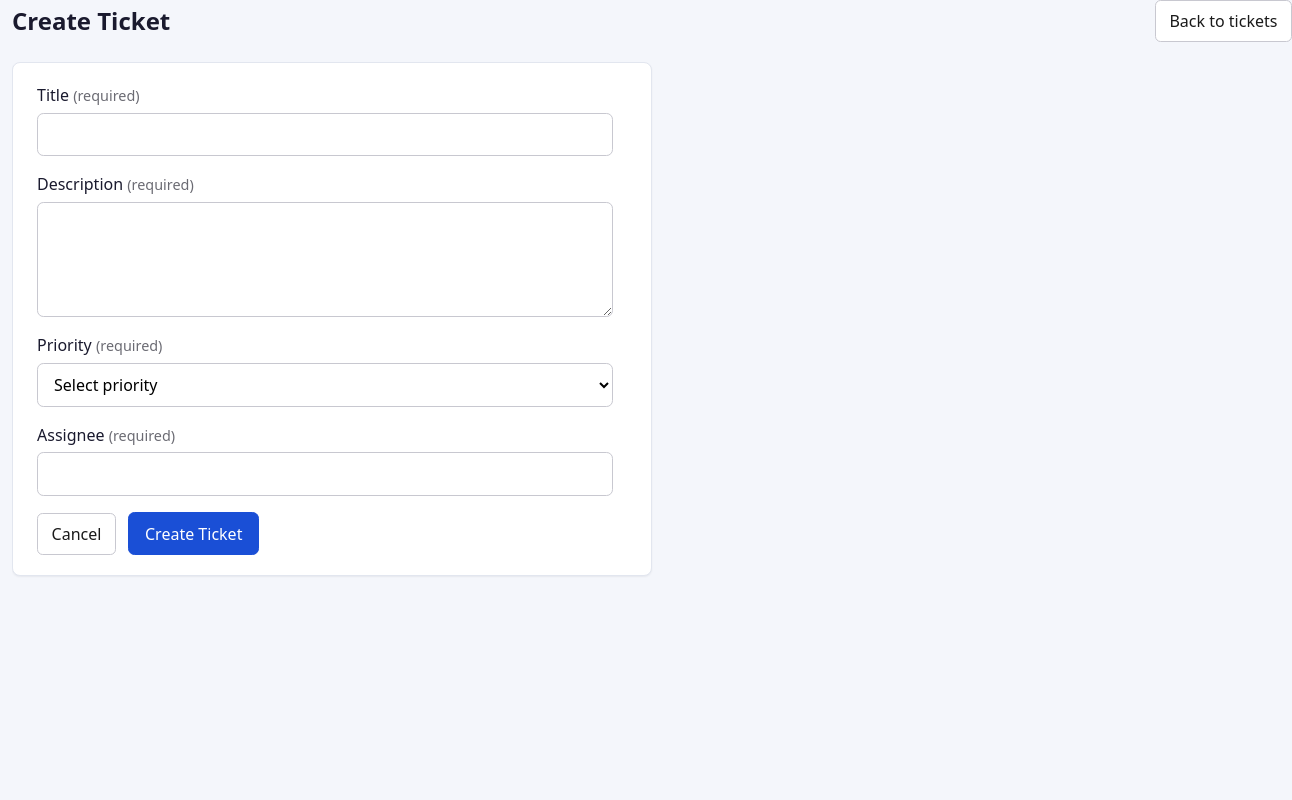
Test: CreateTicketPage › displays backend field validation errors for HTTP 400
The image size is (1292, 800).
Type "Unable to login" into the field labelled "Title (required)". click: coordinates (325, 134)
box: top-left (37, 113), bottom-right (613, 156)
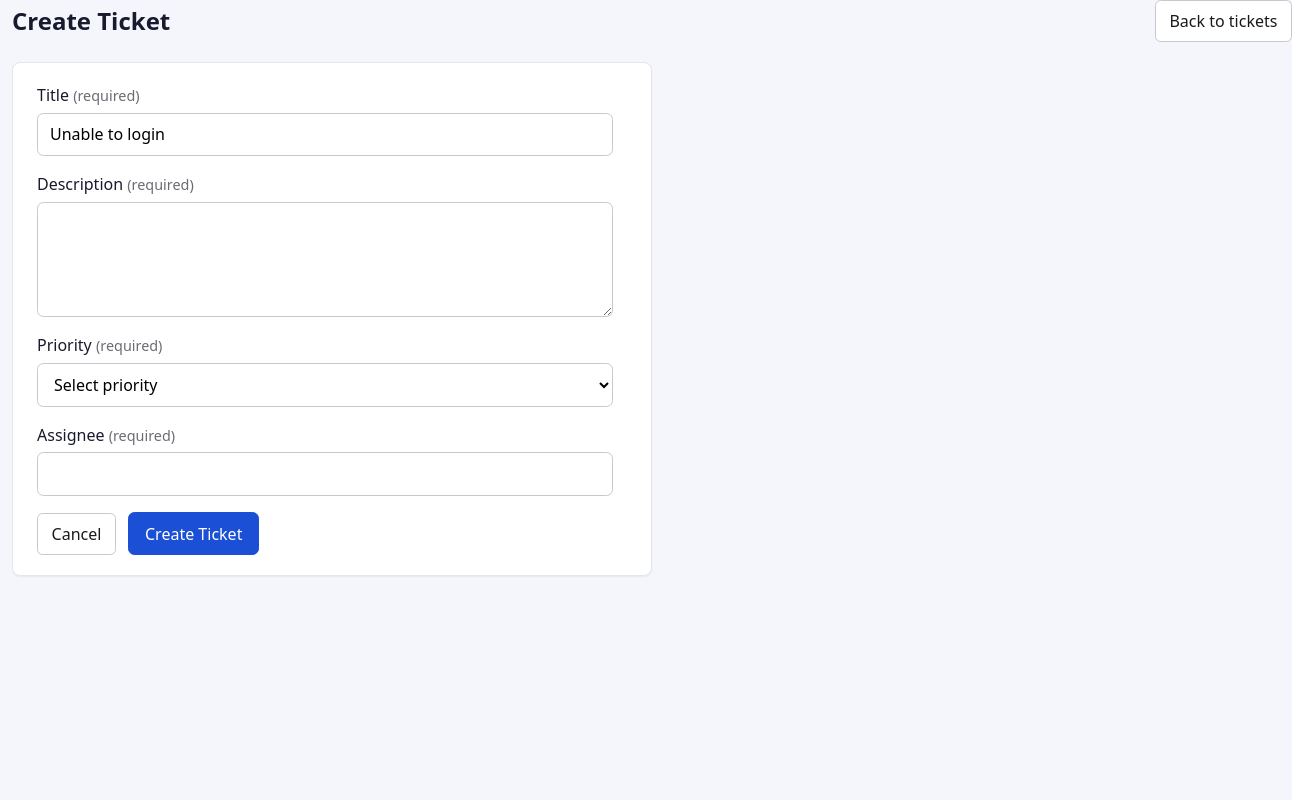
Type "User cannot login to the application." into the text box labelled "Description (required)". click: coordinates (325, 260)
box: top-left (37, 202), bottom-right (613, 317)
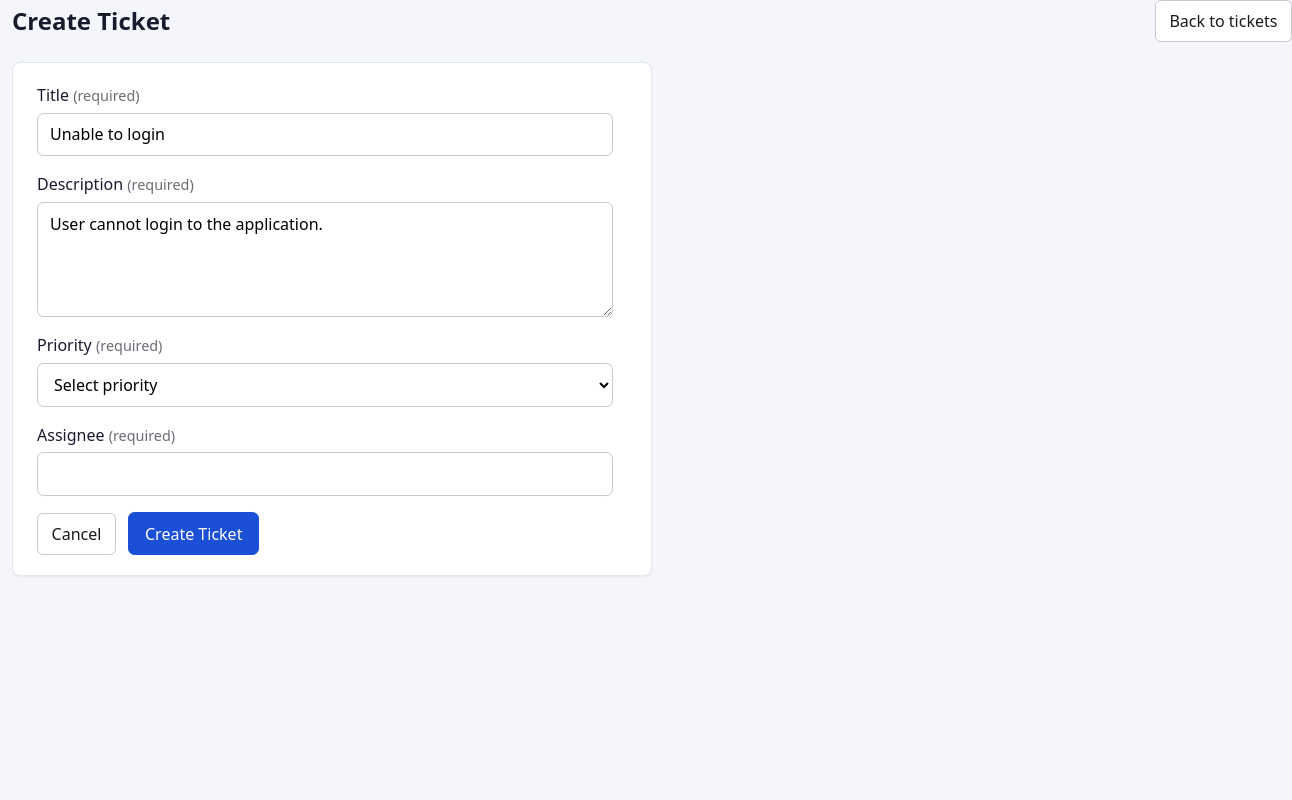
Select "HIGH" in the dropdown labelled "Priority (required)". click: coordinates (325, 385)
box: top-left (37, 363), bottom-right (613, 407)
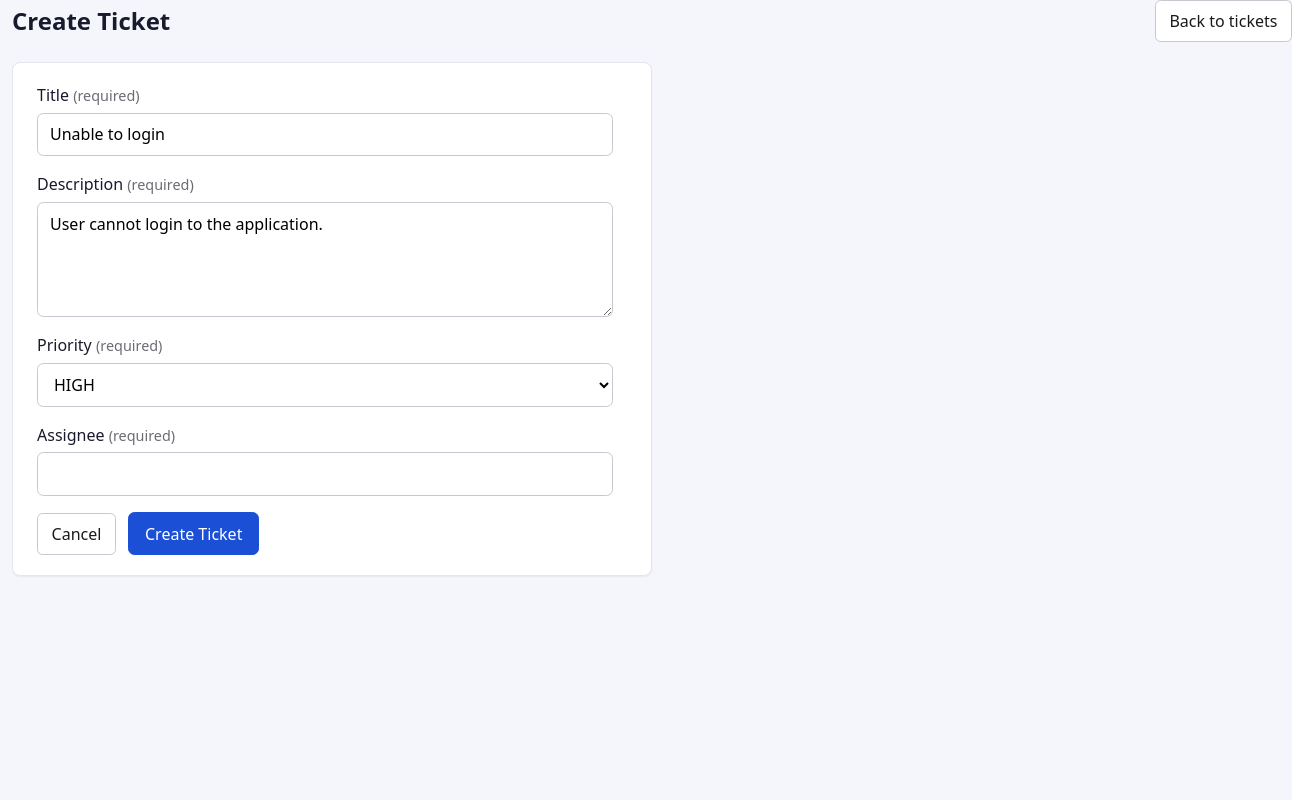
Type "john.doe" into the field labelled "Assignee (required)". click: coordinates (325, 474)
box: top-left (37, 452), bottom-right (613, 496)
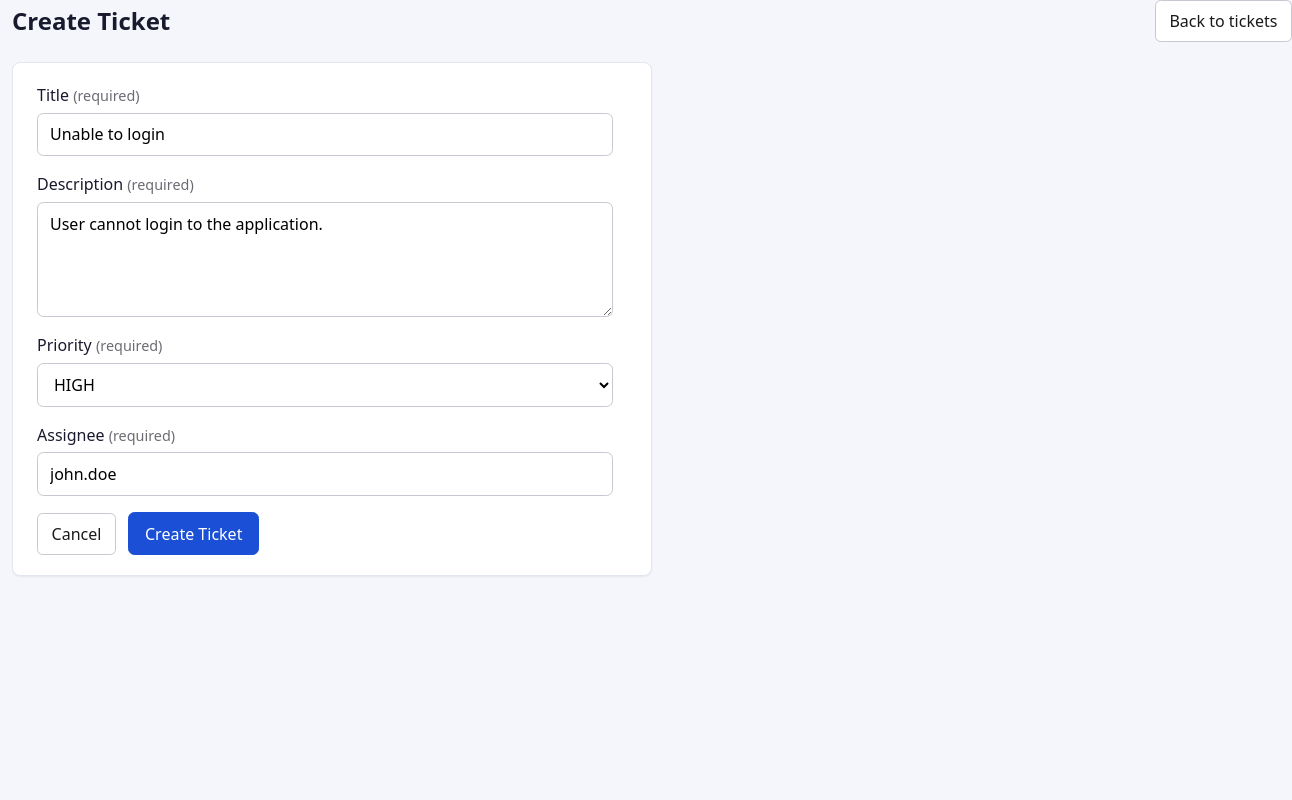
Click the button "Create Ticket". click: coordinates (194, 534)
box: top-left (128, 512), bottom-right (259, 555)
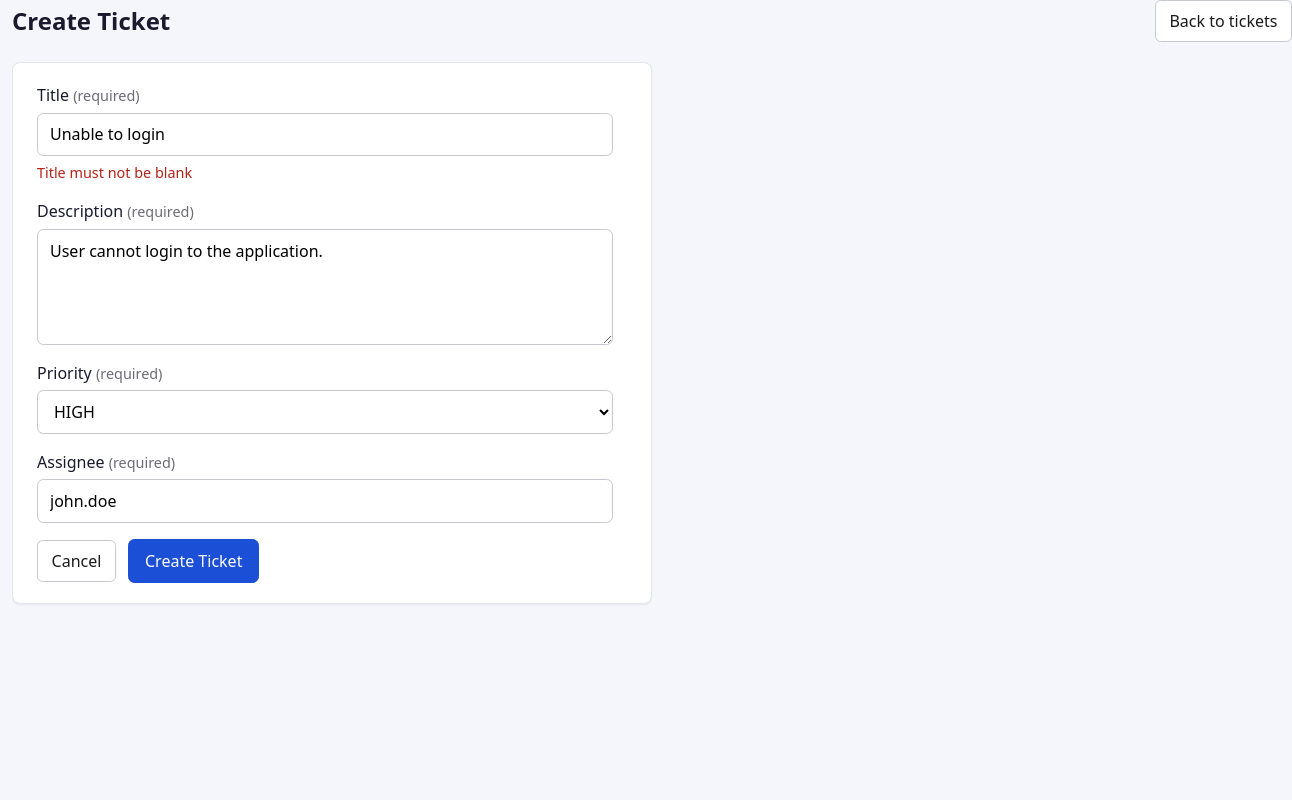
Result: the text "Title must not be blank" is shown at top-left (37, 163), bottom-right (192, 182)
